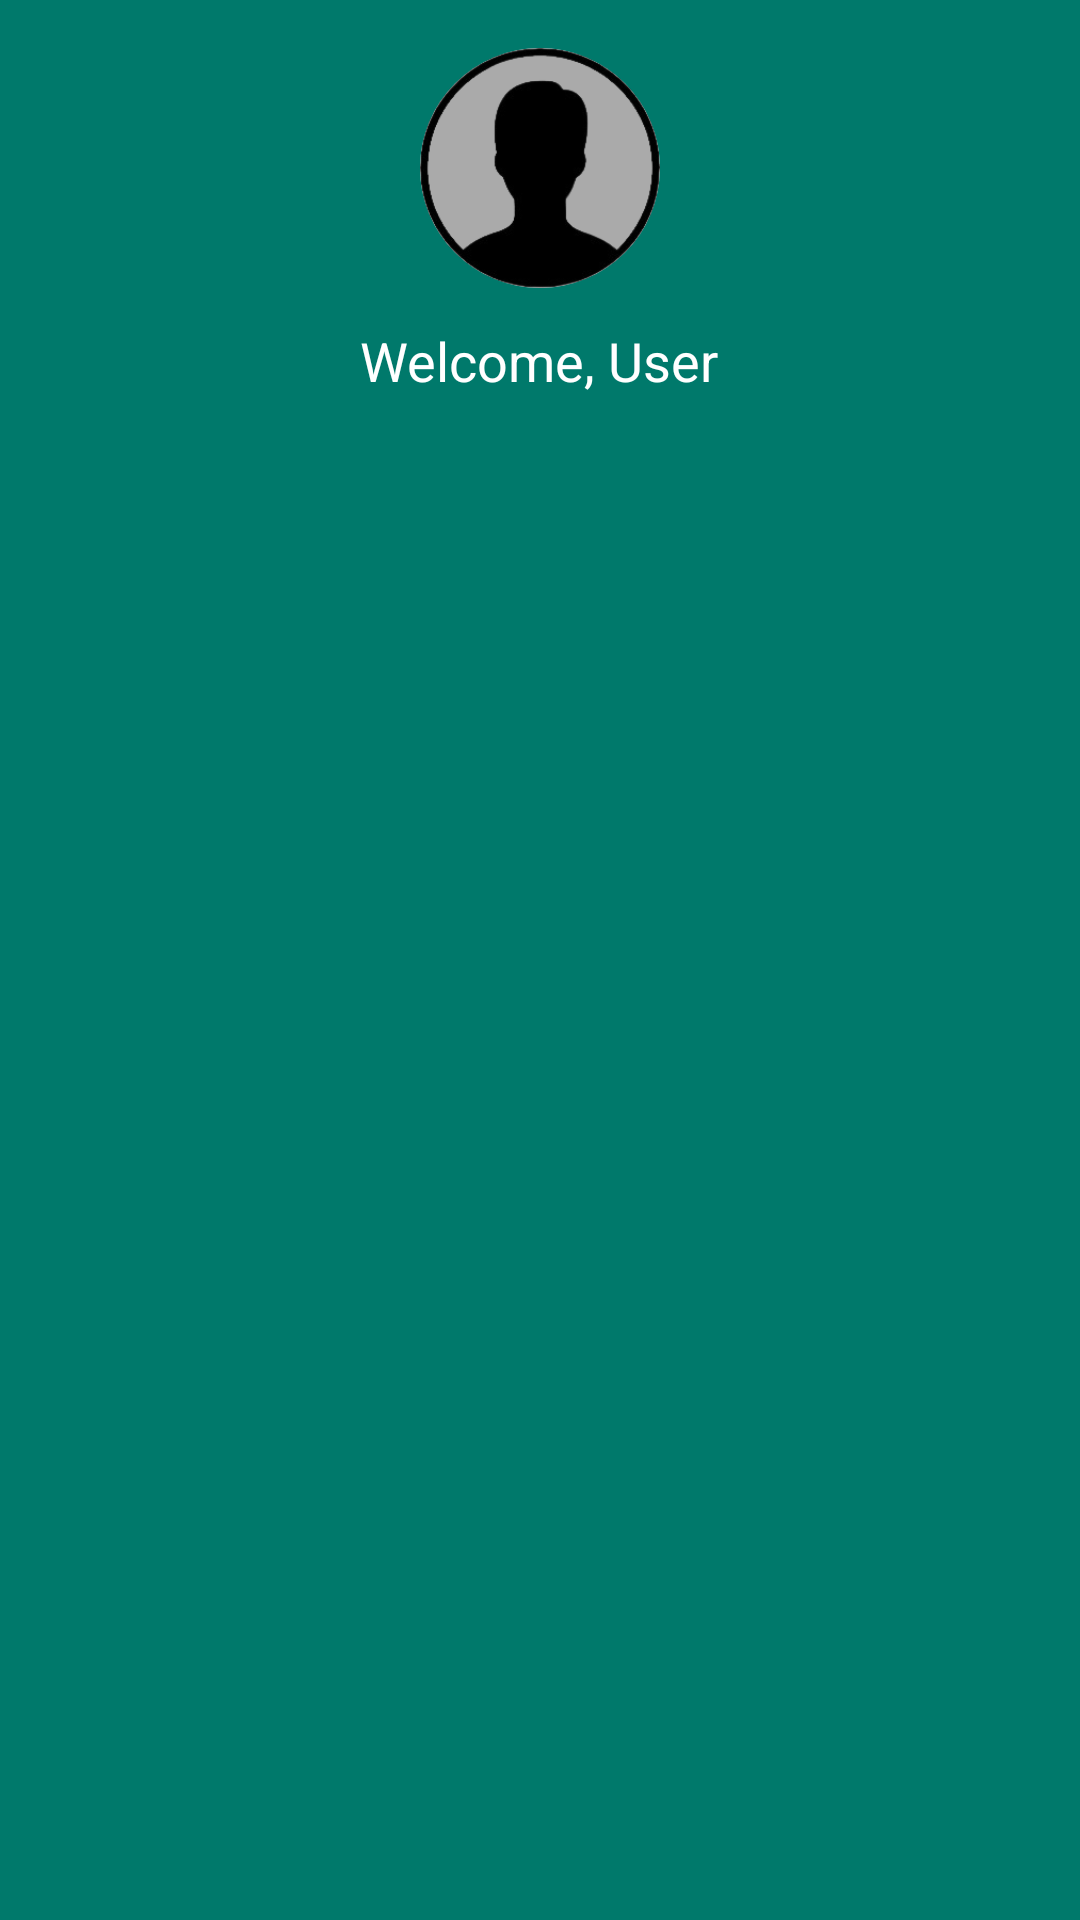

Named icons in this screenshot (1080px x 1920px) and their bounding boxes, (x1, y1, x2, y2):
Profile Image: (420, 48, 660, 288)
